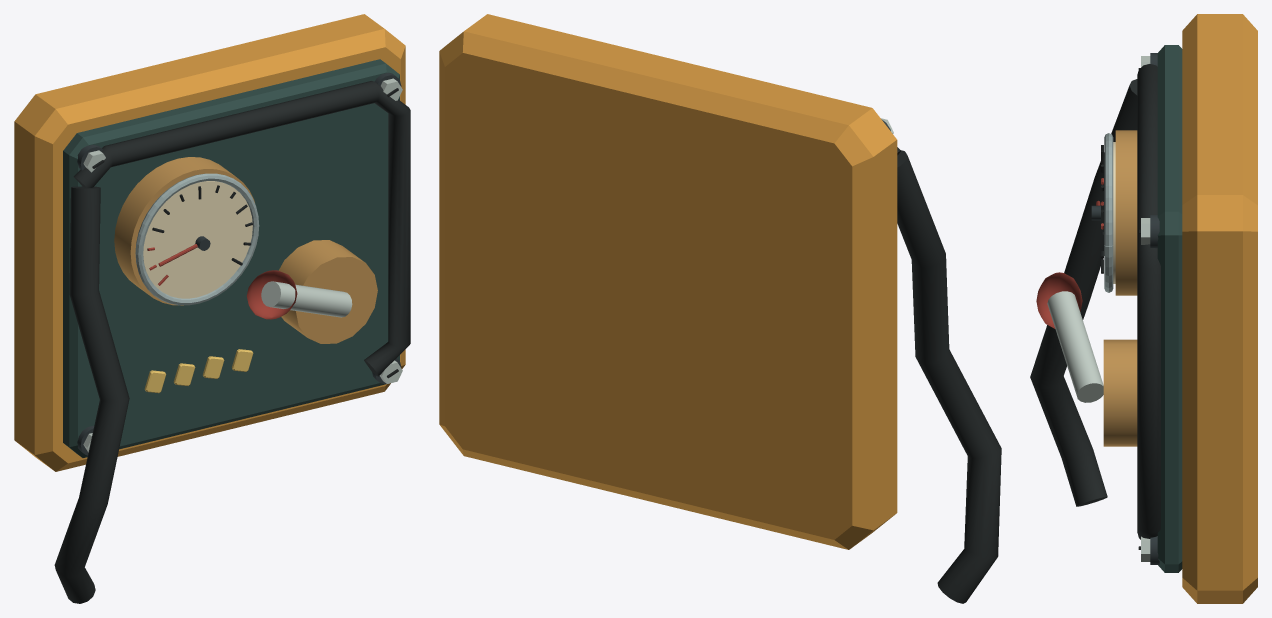
The model's file is seal-broken.glb.
The picture shows the model from 3 angles, left to right: view 1: azimuth 30°, elevation 25°; view 2: azimuth 150°, elevation 25°; view 3: azimuth 270°, elevation 25°; orthographic projection. The views are drawn at different scales.
Parts seen in each view (by area): view 1: RB_seal_broken; view 2: RB_seal_broken; view 3: RB_seal_broken.
Part boxes in pixels (left/top/right/bottom): RB_seal_broken: left=14, top=14, right=410, bottom=603; RB_seal_broken: left=439, top=14, right=1001, bottom=603; RB_seal_broken: left=1030, top=14, right=1257, bottom=603.
Bounding box in the file's own units: 0.4989 × 0.5338 × 0.217.
